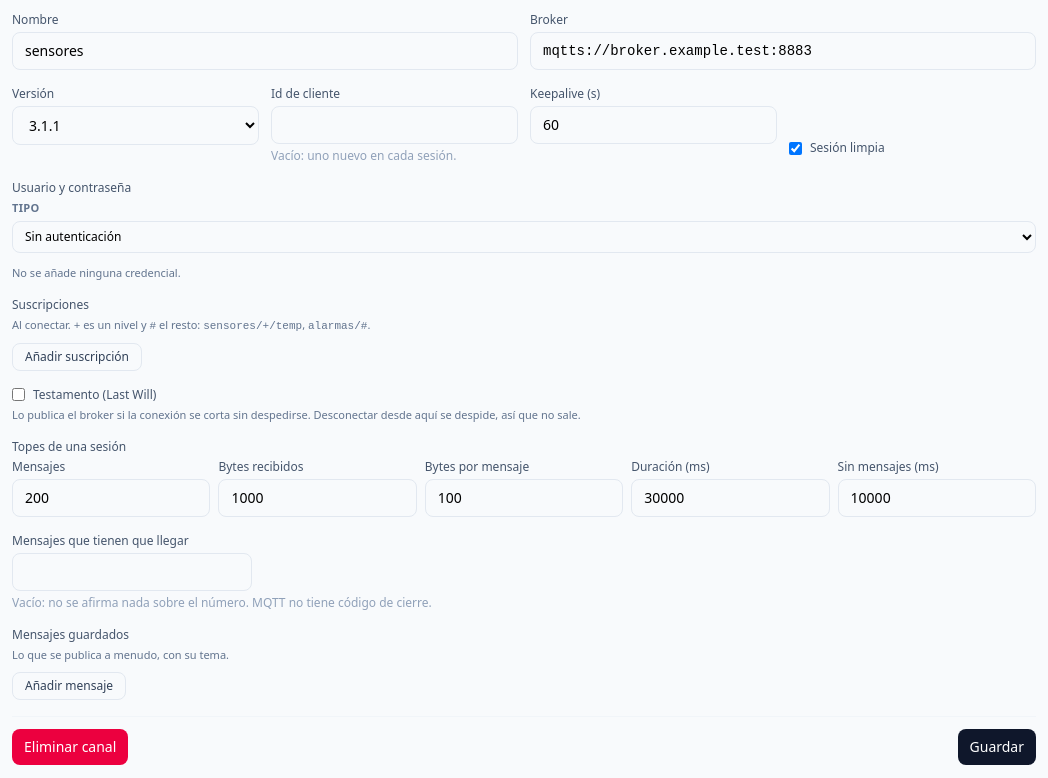
la configuración de un canal MQTT › un broker sin cifrar fuera de esta máquina se avisa; uno local no
The image size is (1048, 778).
Step 1. Replace the text in the field labelled "Broker" with "mqtt://broker.lejano.com" → (783, 51), box [530,32,1036,70]
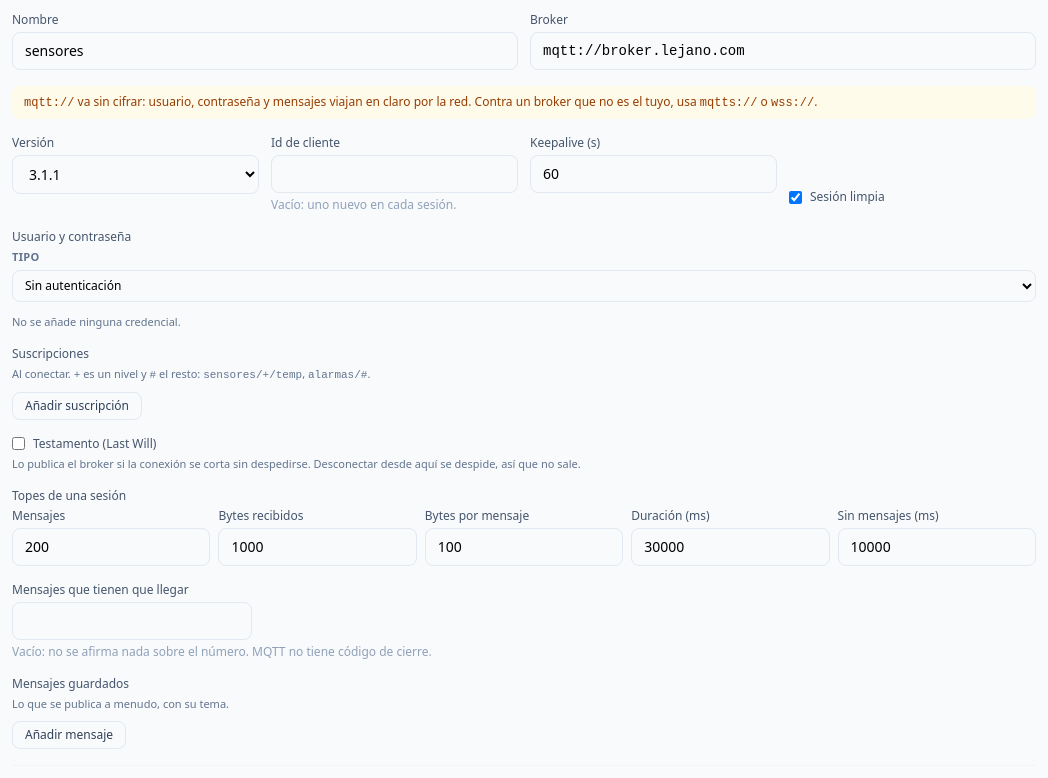
Check: the text "va sin cifrar" is shown, box [74,93,700,110]
Step 2. Replace the text in the field labelled "Broker" with "mqtt://localhost:1883" → (783, 51), box [530,32,1036,70]
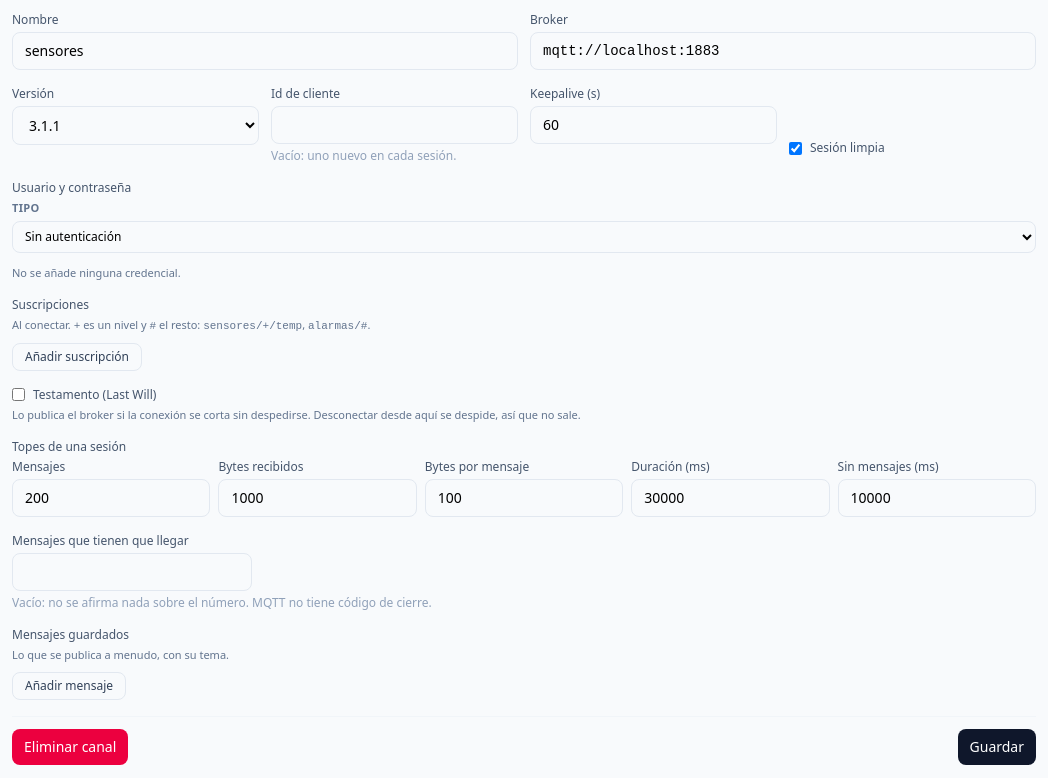
Check: the text "va sin cifrar" is gone
